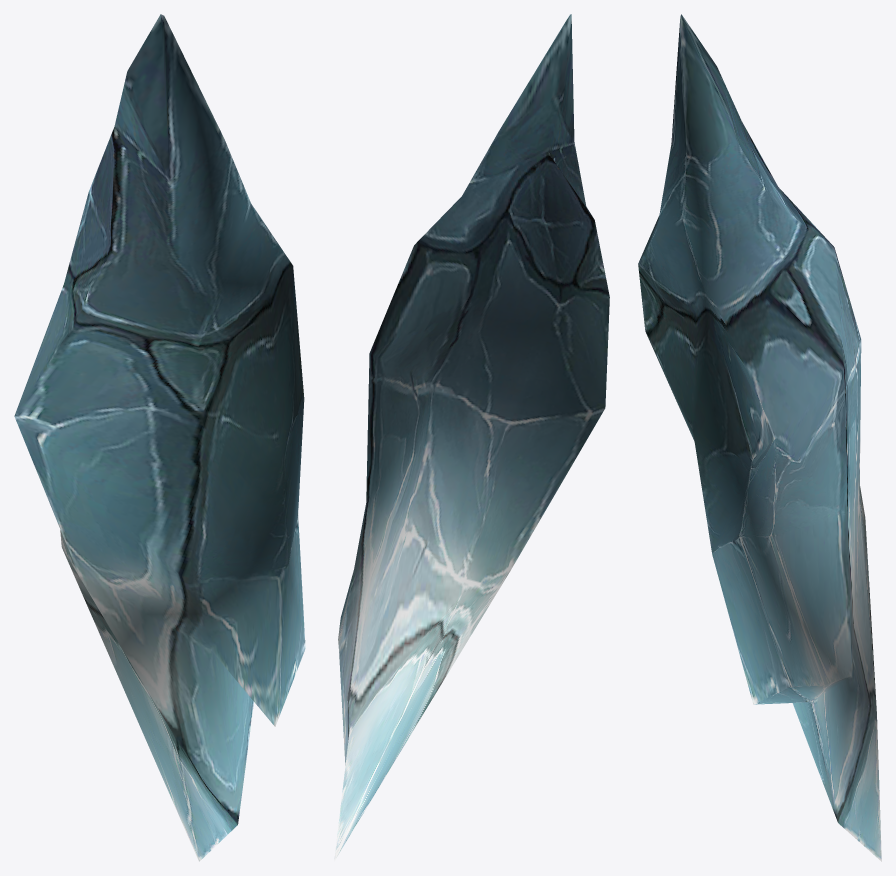
The model's file is iceShard.fbx.
3 views of the same model, side by side, from view 1: azimuth 30°, elevation 25°; view 2: azimuth 150°, elevation 25°; view 3: azimuth 270°, elevation 25° (orthographic). The views are drawn at different scales.
Parts seen in each view (by area): view 1: iceShard; view 2: iceShard; view 3: iceShard.
Boxes of the visible parts, left/top/right/bottom form: iceShard: left=14, top=14, right=305, bottom=861; iceShard: left=334, top=14, right=609, bottom=861; iceShard: left=638, top=14, right=881, bottom=861.
Bounding box in the file's own units: 5.17 × 15.79 × 4.45.
